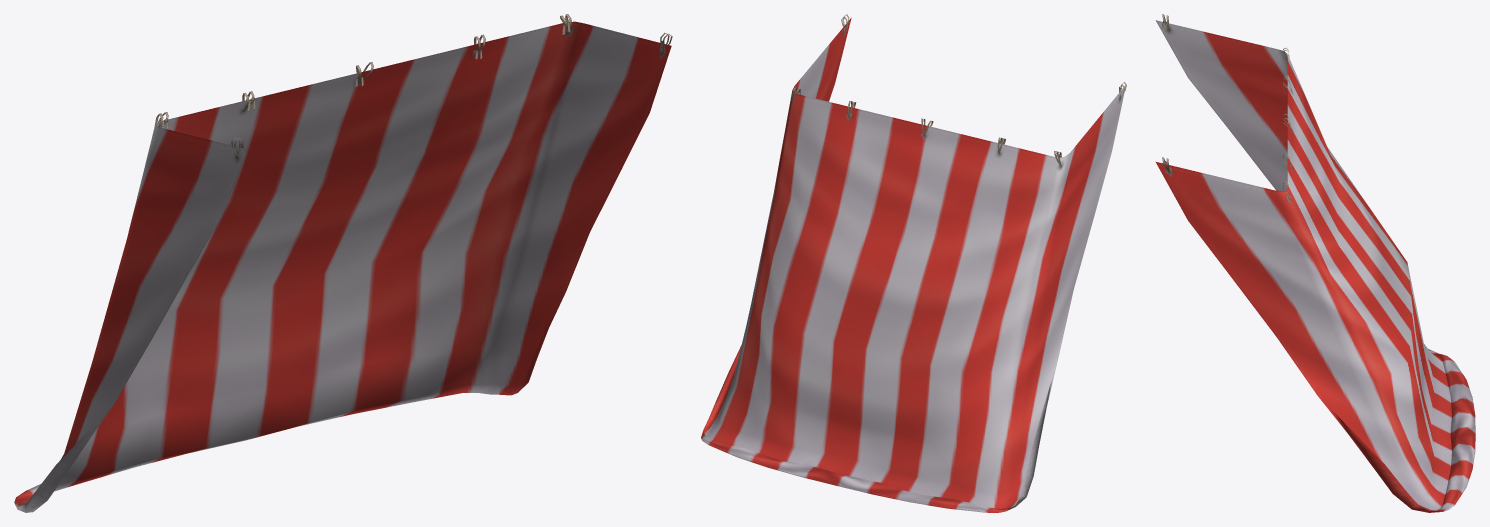
File: jsf_BackSide_s01_c01_t02.fbx
3 renders of one model, left to right at view 1: azimuth 30°, elevation 25°; view 2: azimuth 150°, elevation 25°; view 3: azimuth 270°, elevation 25°, orthographic. The views are drawn at different scales.
Visible parts, largest first — view 1: jsf_BackSide_s01_c01_t02; view 2: jsf_BackSide_s01_c01_t02; view 3: jsf_BackSide_s01_c01_t02.
Boxes of the visible parts, left/top/right/bottom form: jsf_BackSide_s01_c01_t02: left=14, top=14, right=672, bottom=512; jsf_BackSide_s01_c01_t02: left=701, top=14, right=1126, bottom=512; jsf_BackSide_s01_c01_t02: left=1155, top=14, right=1475, bottom=512.
Bounding box in the file's own units: 207 × 205 × 171.
